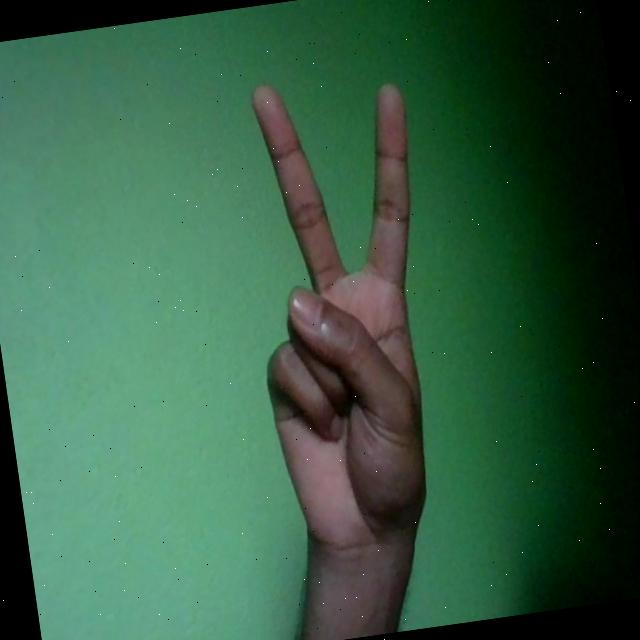Fist: (226, 65, 467, 568)
